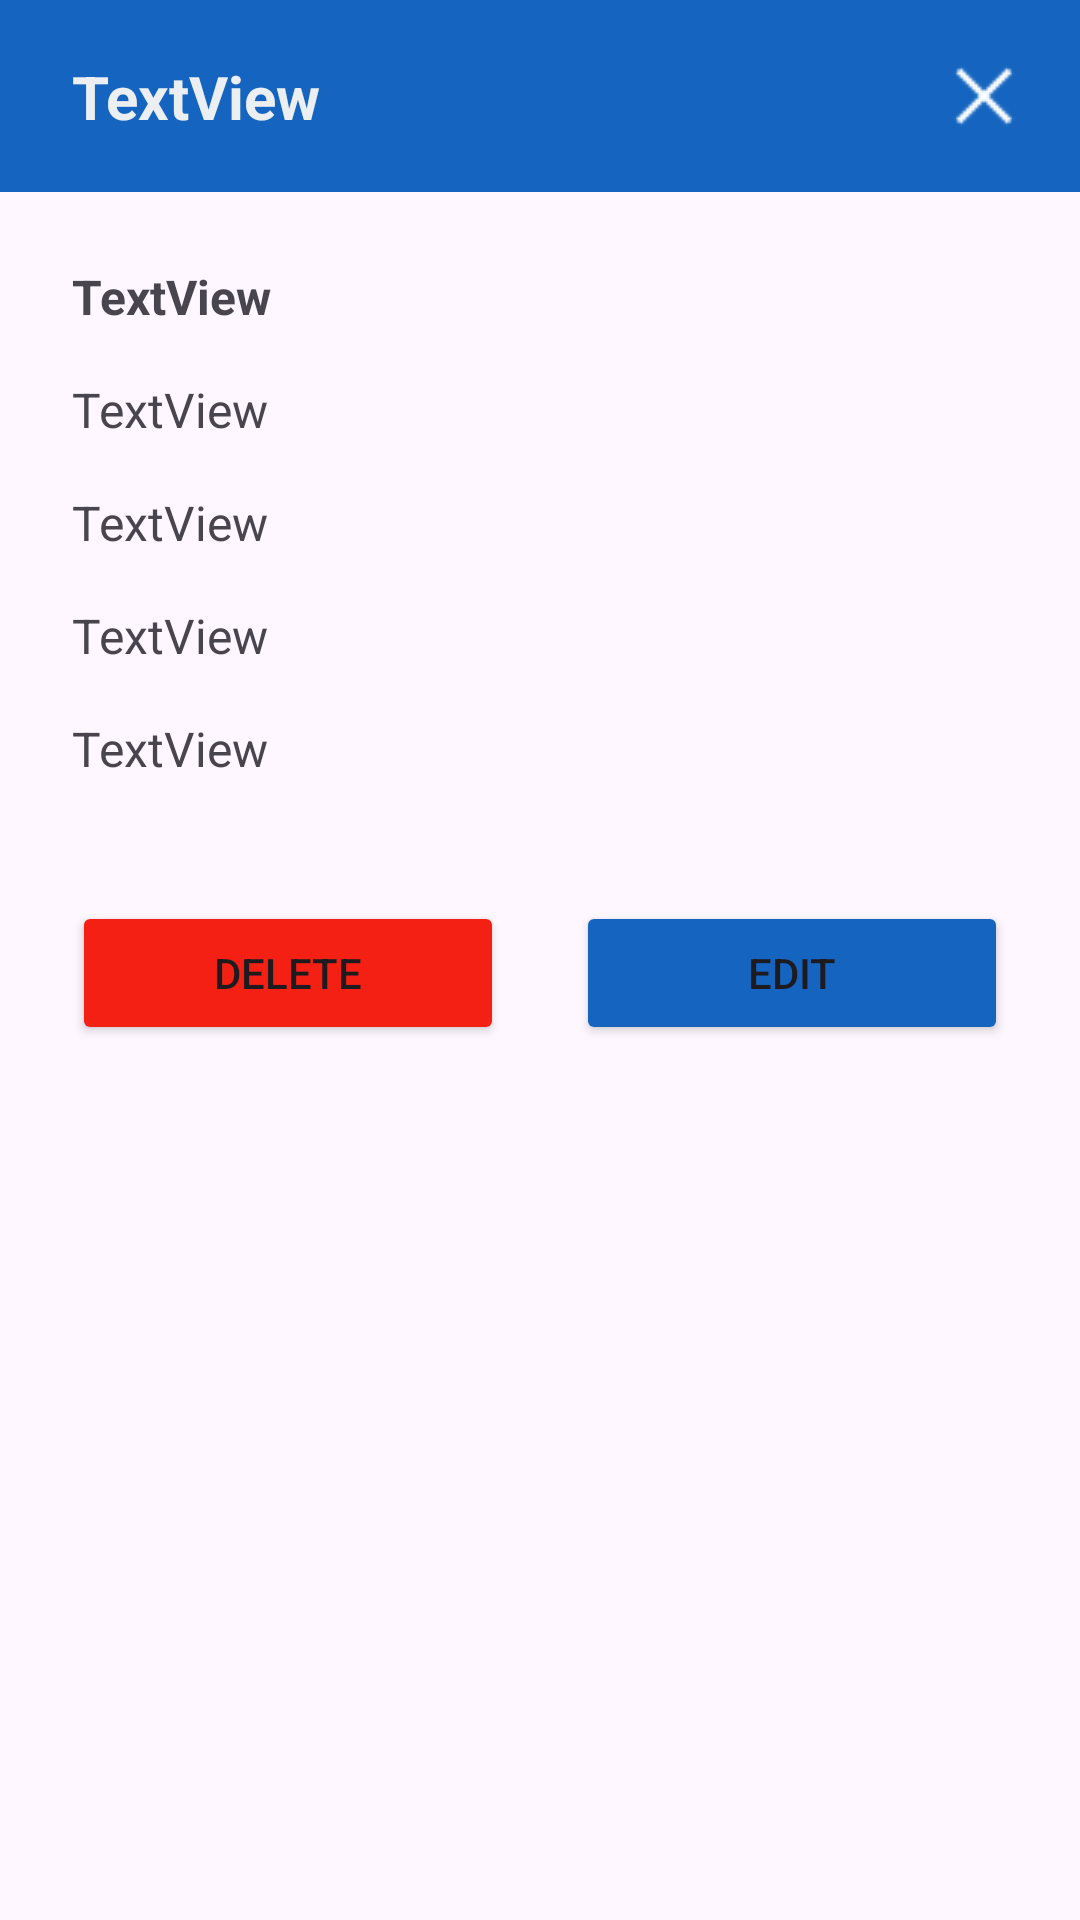

Where to tap for icons on this 1080 x 1920 app screen, as (x,y):
Close: (984,96)
